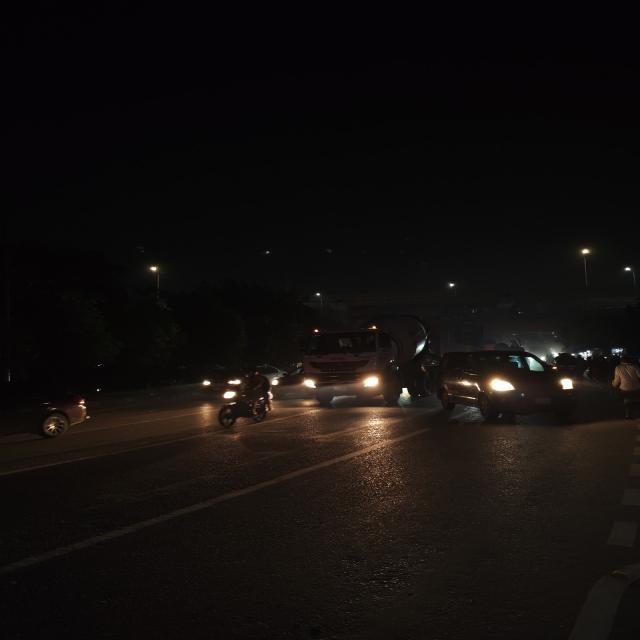car: (430, 346, 580, 424), (1, 386, 100, 450)
motorcycle: (208, 368, 277, 432)
pedestrian: (607, 354, 640, 422)
truck: (296, 316, 434, 408)
